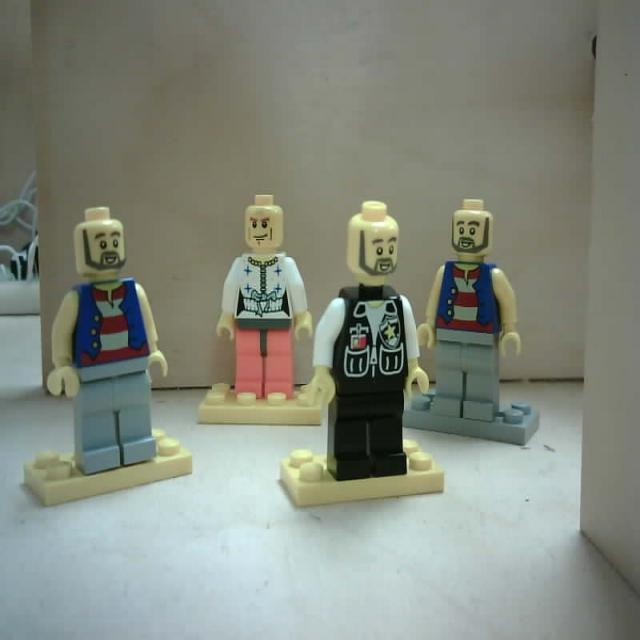Lego-People: (280, 201, 441, 521), (23, 210, 194, 508), (396, 198, 542, 446), (203, 193, 329, 428)
